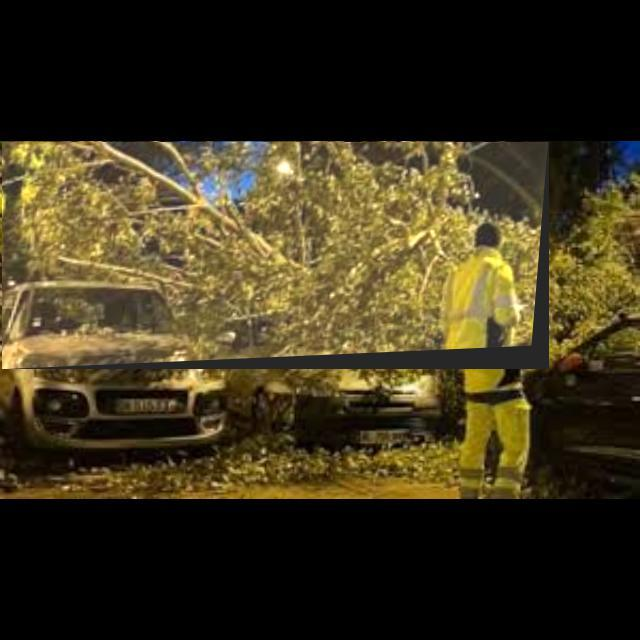fallen_tree: (2, 142, 550, 370)
